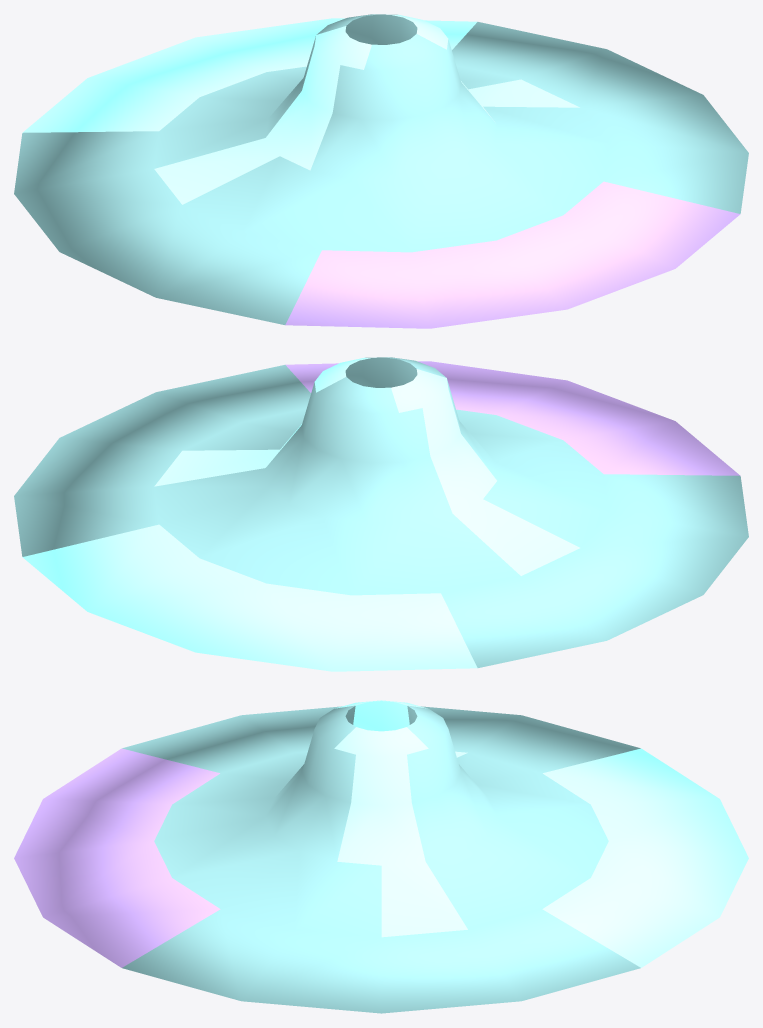
File: RiftProbeDisk.glb
3 renders of one model, top to bottom at view 1: azimuth 30°, elevation 25°; view 2: azimuth 150°, elevation 25°; view 3: azimuth 270°, elevation 25°, orthographic.
Parts seen in each view (by area): view 1: savino; view 2: savino; view 3: savino.
Part boxes in pixels (x1=…): savino: x1=14, y1=14, x2=748, y2=328; savino: x1=14, y1=357, x2=748, y2=671; savino: x1=14, y1=700, x2=748, y2=1013.
Bounding box in the file's own units: 8.04 × 2.25 × 8.04.
